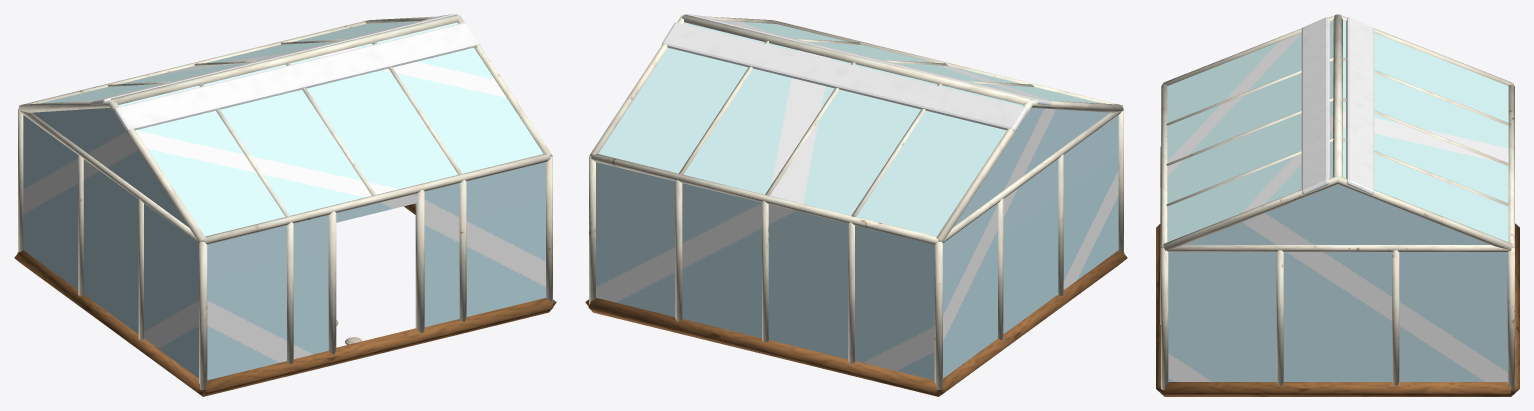
File: greenhouse.glb
The picture shows the model from 3 angles, left to right: view 1: azimuth 30°, elevation 25°; view 2: azimuth 150°, elevation 25°; view 3: azimuth 270°, elevation 25°; orthographic projection. The views are drawn at different scales.
Visible parts, largest first — view 1: Greenhouse; view 2: Greenhouse; view 3: Greenhouse.
Part boxes in pixels (box(x1,y1,x2,y2)): Greenhouse: box(14, 14, 556, 396); Greenhouse: box(585, 14, 1127, 396); Greenhouse: box(1156, 14, 1519, 396).
Bounding box in the file's own units: 4.5 × 2.82 × 4.1.
1 material, 1 textured.
